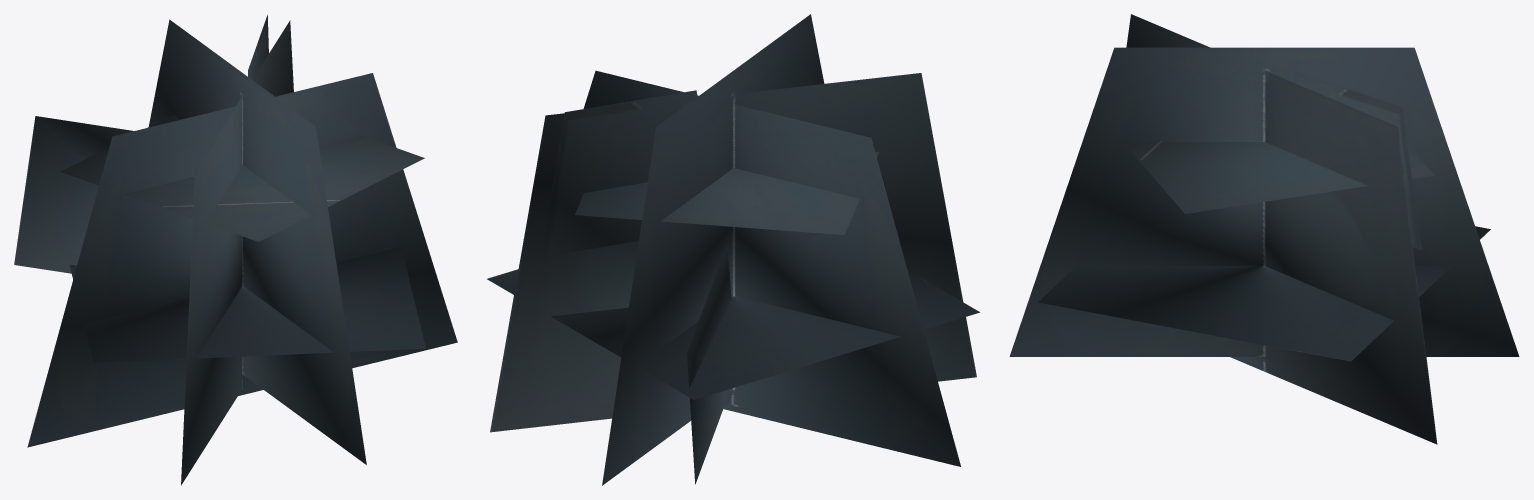
Rendered from oak-canopy-unit-tripo-original.glb.
3 renders of one model, left to right at view 1: azimuth 30°, elevation 25°; view 2: azimuth 150°, elevation 25°; view 3: azimuth 270°, elevation 25°, orthographic. The views are drawn at different scales.
Parts seen in each view (by area): view 1: Authored_surface; view 2: Authored_surface; view 3: Authored_surface.
Part boxes in pixels (box(x1,y1,x2,y2)): Authored_surface: box(14, 15, 457, 485); Authored_surface: box(487, 14, 979, 485); Authored_surface: box(1009, 14, 1519, 444).
Size of the model in its own units: 1 by 0.7152 by 1.
Materials: 1 (1 with a texture image).
